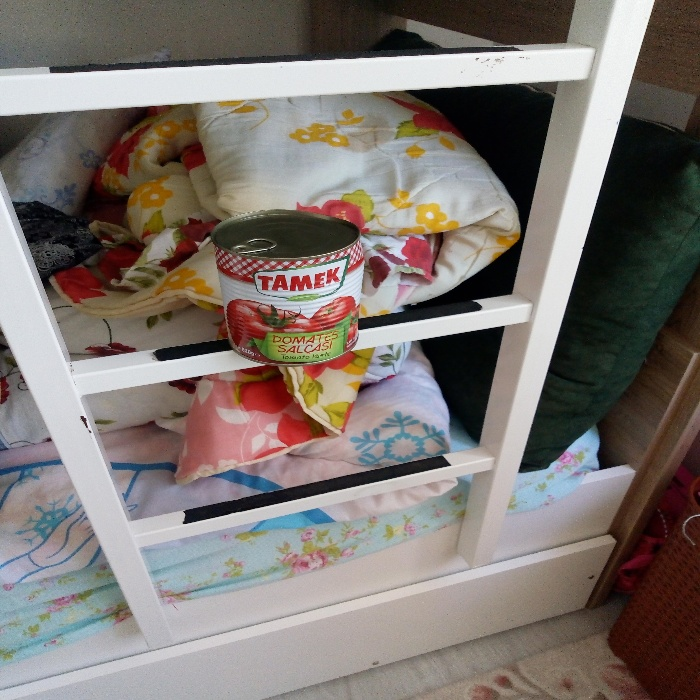salca: (198, 191, 369, 366)
